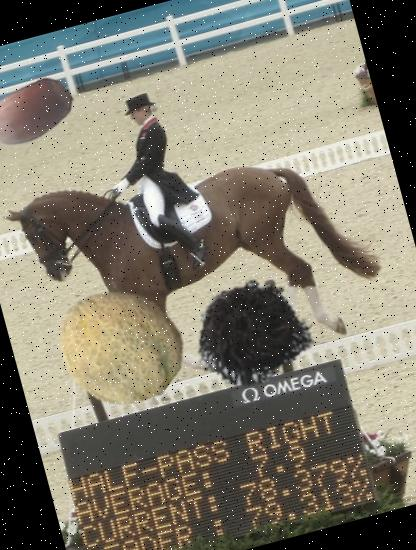Cantaloupe: (42, 270, 196, 424)
Hazelnut: (0, 57, 83, 170)
Rambutan: (183, 259, 331, 407)
